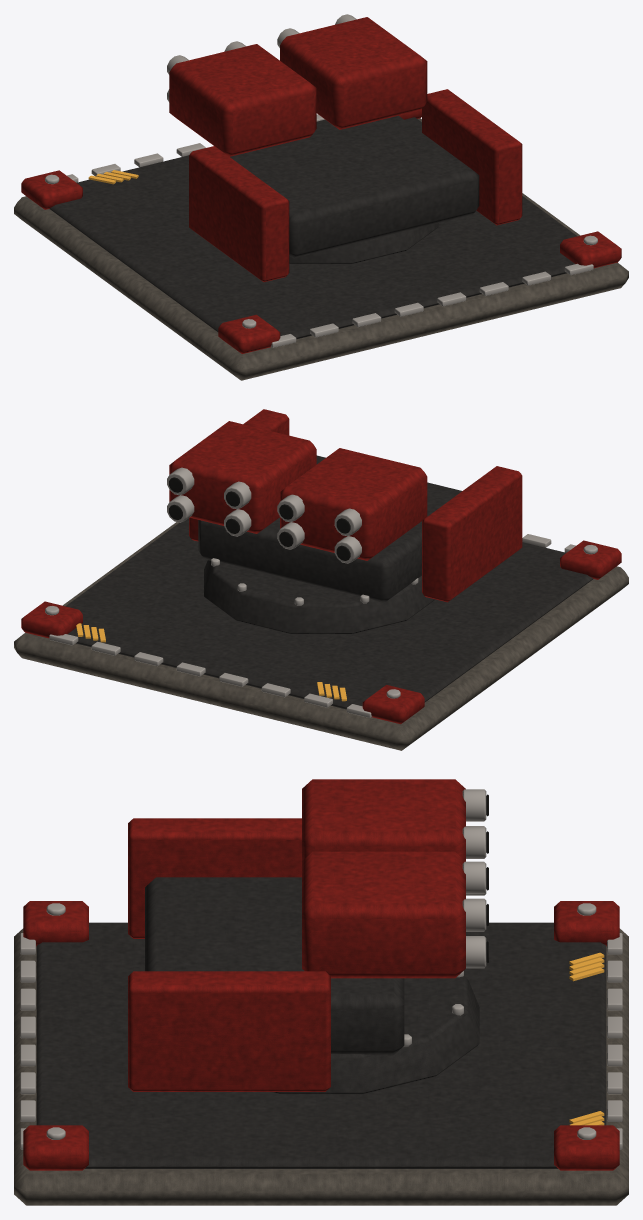
File: kharn_batterie_de_roquettes.gltf
The picture shows the model from 3 angles, top to bottom: view 1: azimuth 30°, elevation 25°; view 2: azimuth 150°, elevation 25°; view 3: azimuth 270°, elevation 25°; orthographic projection. The views are drawn at different scales.
Parts seen in each view (by area): view 1: Root.012_Geometry, TurretYaw.002_Geometry, GunPitch.002_Geometry, GunPitch.003_Geometry; view 2: Root.012_Geometry, TurretYaw.002_Geometry, GunPitch.002_Geometry, GunPitch.003_Geometry; view 3: Root.012_Geometry, TurretYaw.002_Geometry, GunPitch.003_Geometry, GunPitch.002_Geometry.
Boxes of the visible parts, x1,y1,x2,y2 form: Root.012_Geometry: (14,109,628,380); TurretYaw.002_Geometry: (189,89,522,282); GunPitch.002_Geometry: (167,41,316,156); GunPitch.003_Geometry: (277,14,427,129); Root.012_Geometry: (14,518,628,750); TurretYaw.002_Geometry: (189,409,522,602); GunPitch.002_Geometry: (277,448,427,563); GunPitch.003_Geometry: (167,421,316,536); Root.012_Geometry: (14,901,628,1205); TurretYaw.002_Geometry: (128,818,404,1091); GunPitch.003_Geometry: (302,851,488,978); GunPitch.002_Geometry: (302,779,488,895).
Size of the model in its own units: 3.94 by 1.69 by 3.94.
6 materials, 4 textured.
